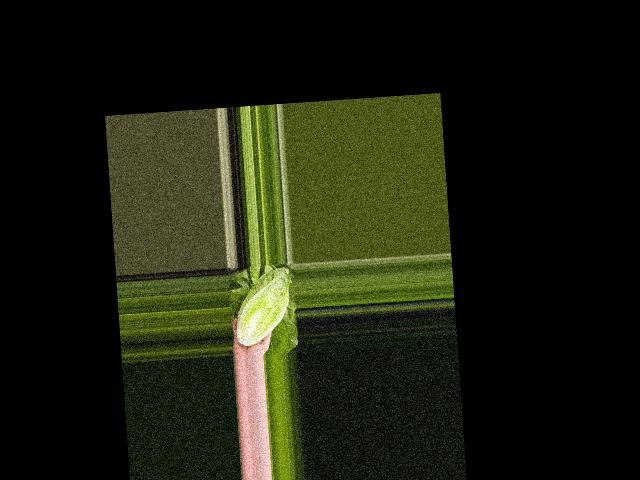lettuce: (230, 266, 294, 348)
